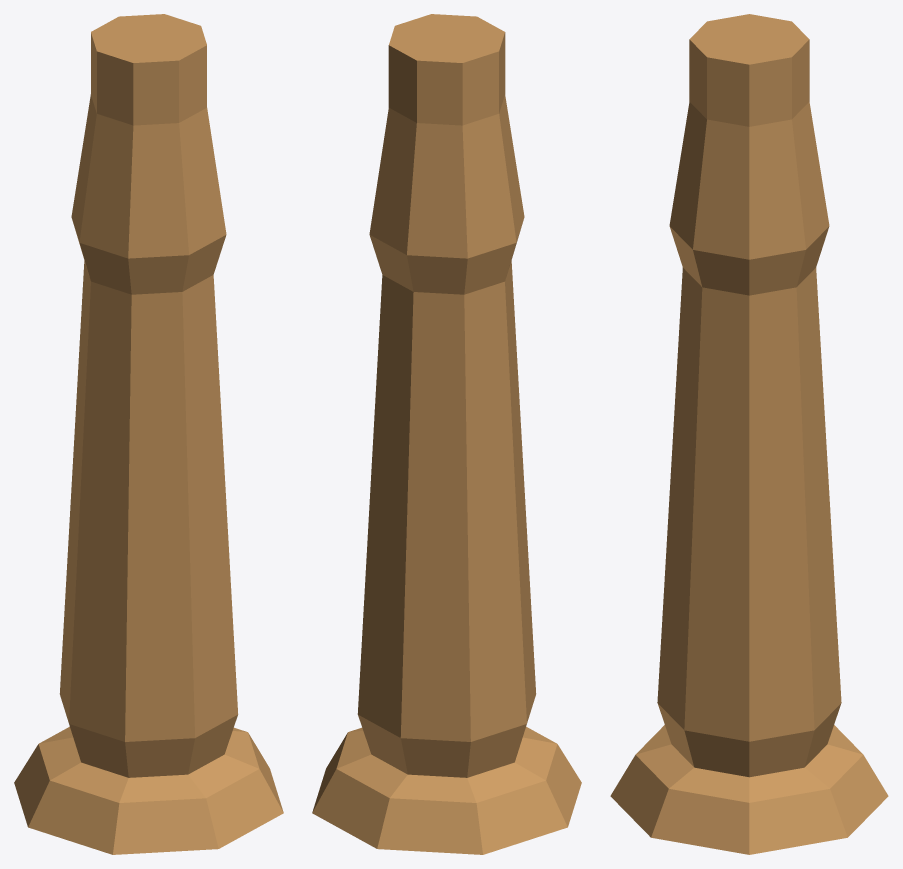
The model's file is egypt_egypt-pillar-papyrus.fbx.
3 views of the same model, side by side, from view 1: azimuth 30°, elevation 25°; view 2: azimuth 150°, elevation 25°; view 3: azimuth 270°, elevation 25° (orthographic).
Parts seen in each view (by area): view 1: egypt_egypt_pillar_papyrus; view 2: egypt_egypt_pillar_papyrus; view 3: egypt_egypt_pillar_papyrus.
Boxes of the visible parts, left/top/right/bottom form: egypt_egypt_pillar_papyrus: left=14, top=14, right=283, bottom=854; egypt_egypt_pillar_papyrus: left=312, top=14, right=581, bottom=854; egypt_egypt_pillar_papyrus: left=610, top=14, right=888, bottom=854.
Size of the model in its own units: 66.67 by 200 by 66.67.
